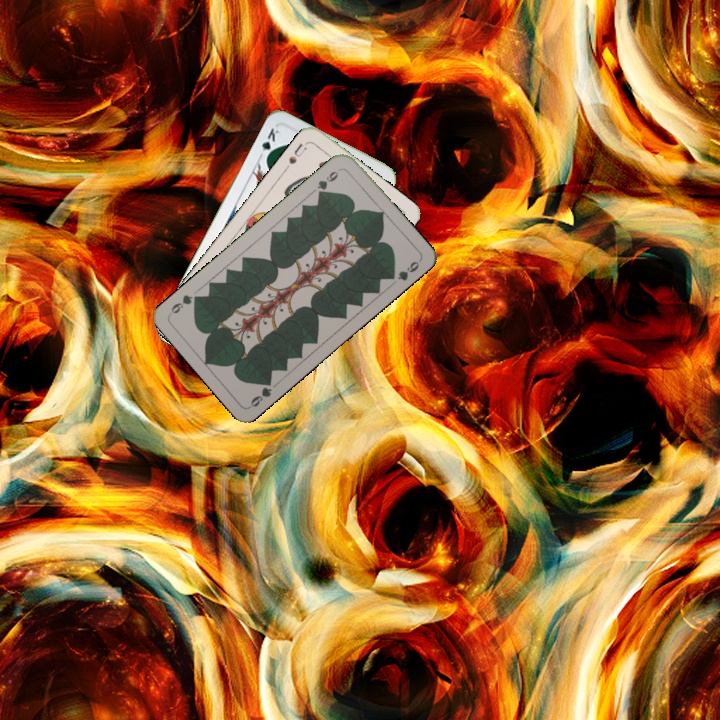G9: (313, 165, 344, 198), (246, 374, 274, 410)
GK: (255, 124, 282, 163)
SU: (281, 139, 309, 173)
